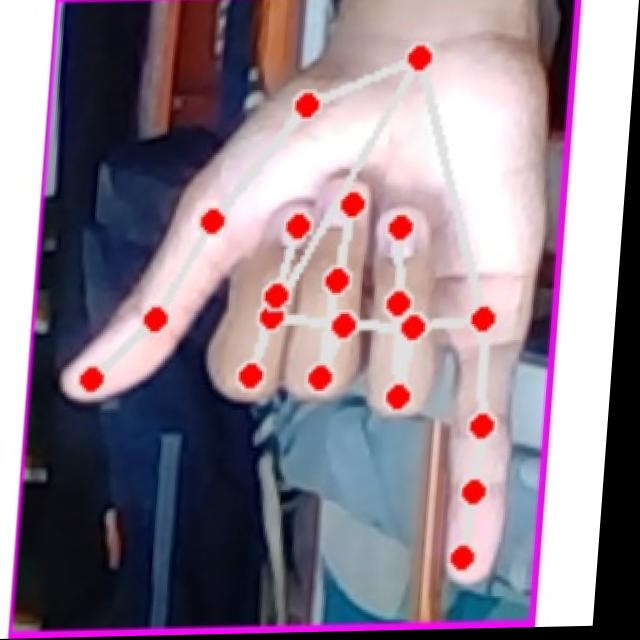Y: (52, 31, 560, 603)
